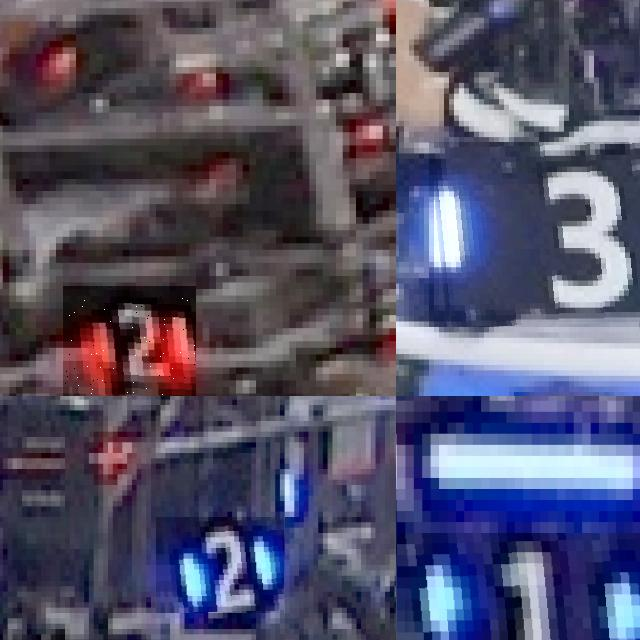B1: (397, 533, 640, 640)
B2: (156, 517, 284, 613)
B3: (429, 142, 640, 326)
R2: (62, 286, 196, 396)
